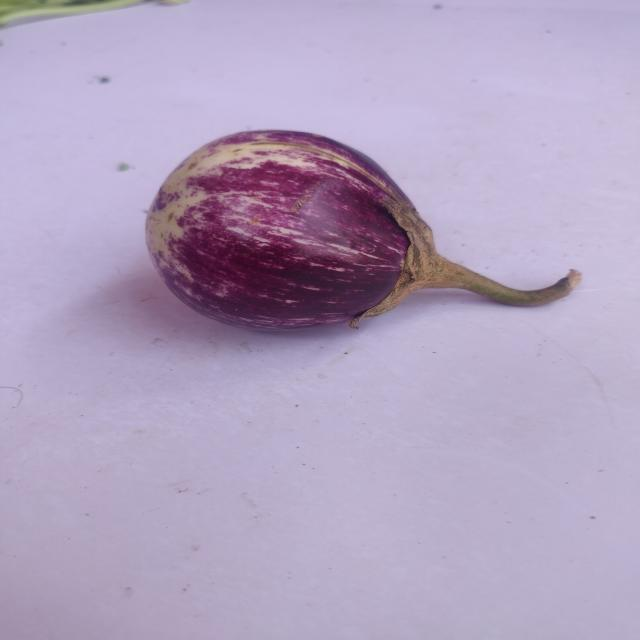Eggplant: (121, 115, 597, 398)
